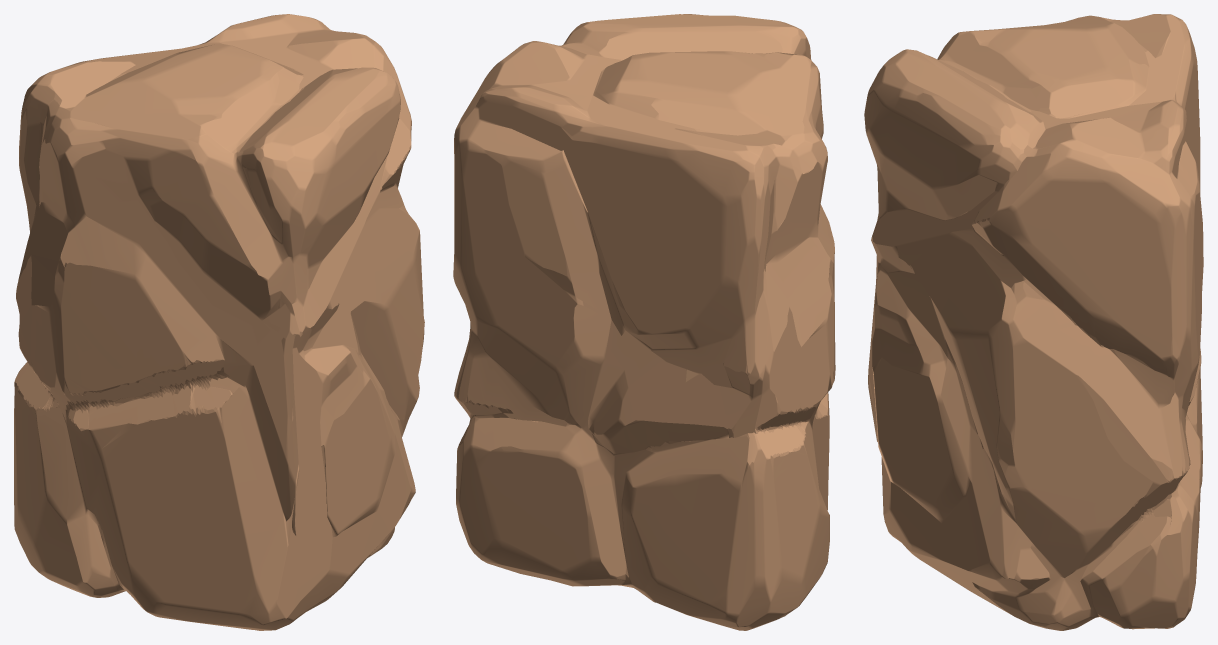
3 renders of one model, left to right at view 1: azimuth 30°, elevation 25°; view 2: azimuth 150°, elevation 25°; view 3: azimuth 270°, elevation 25°, orthographic.
Parts seen in each view (by area): view 1: Mesh_36_LOD0; view 2: Mesh_36_LOD0; view 3: Mesh_36_LOD0.
Boxes of the visible parts, x1=… form: Mesh_36_LOD0: x1=14, y1=14, x2=424, y2=630; Mesh_36_LOD0: x1=453, y1=14, x2=835, y2=630; Mesh_36_LOD0: x1=864, y1=14, x2=1203, y2=630.
Size of what is drawn, in the model's own units: 1445 by 2058 by 1253.
